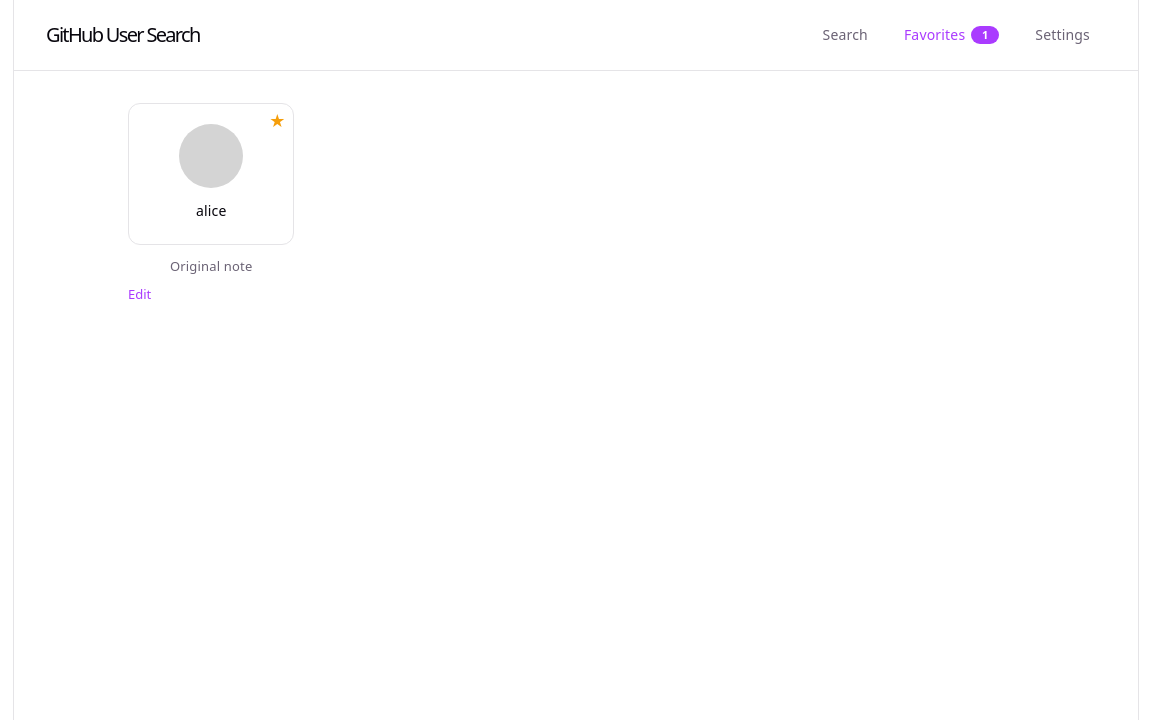
Test: favorites page notes › cancels a note edit and returns to summary view
Click the button with aria-label "Edit note for alice".
click(140, 294)  # box [128,281,151,308]
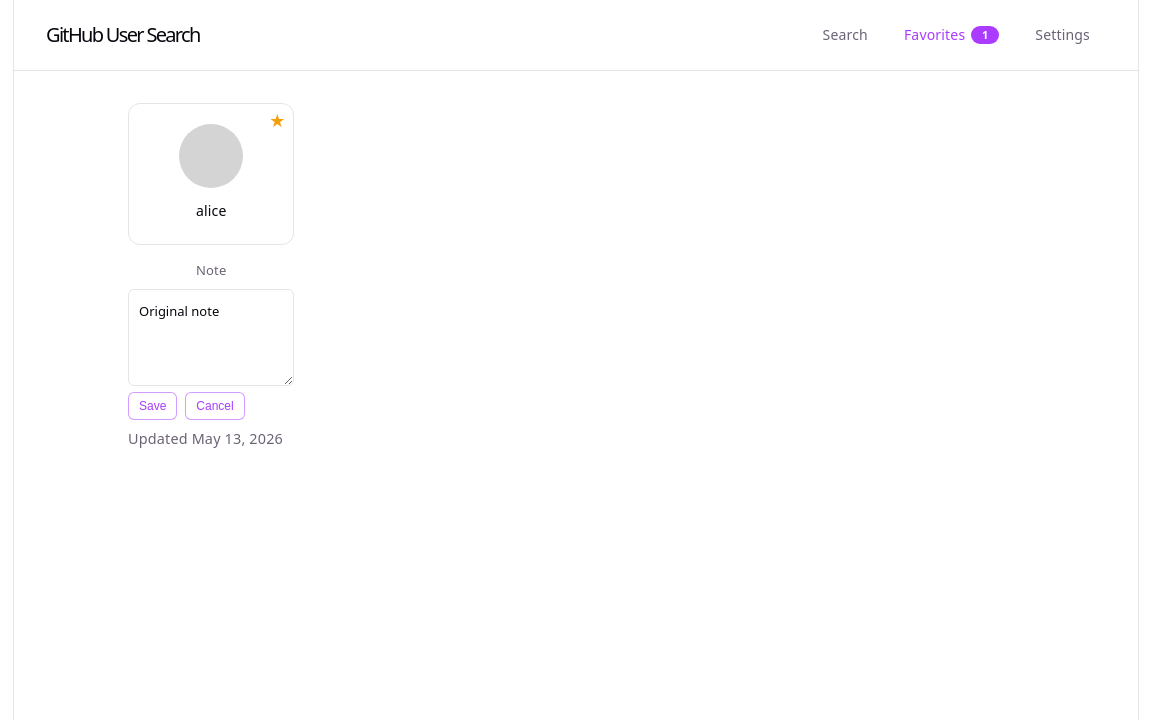
Replace the text in the text box named "Note for alice" with "Draft note" at coordinates (211, 337), box [128,289,294,386]
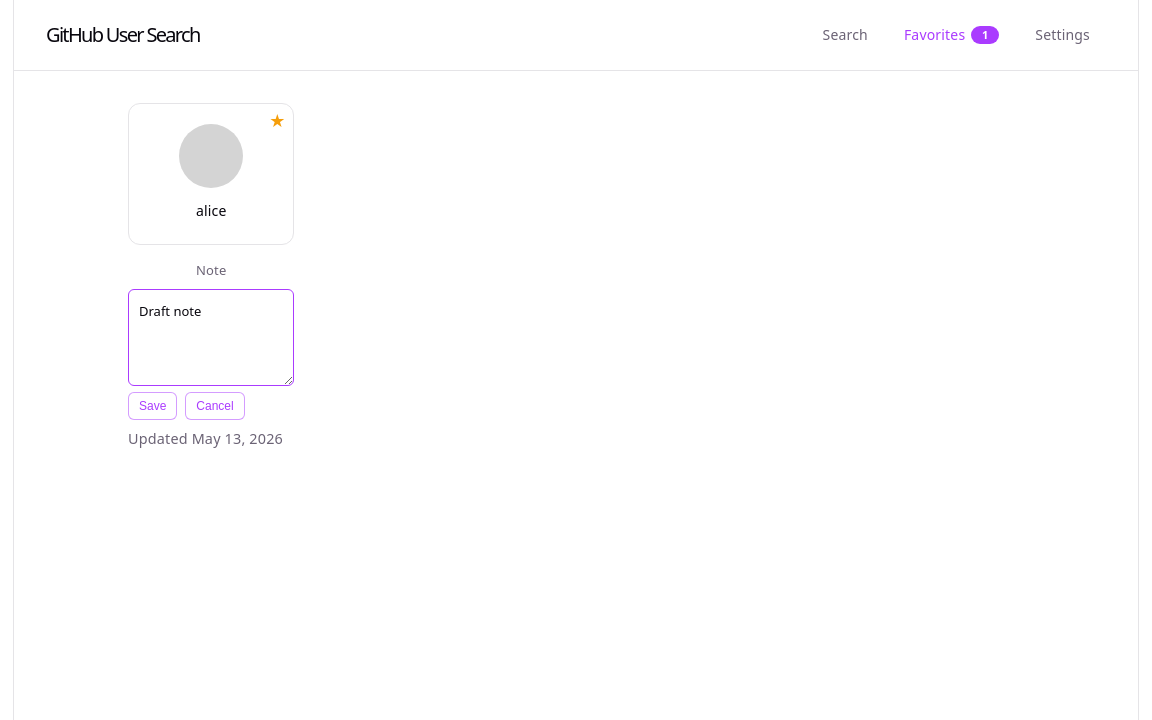
Click the button with aria-label "Cancel note edit for alice".
click(215, 406)  # box [185,392,245,420]
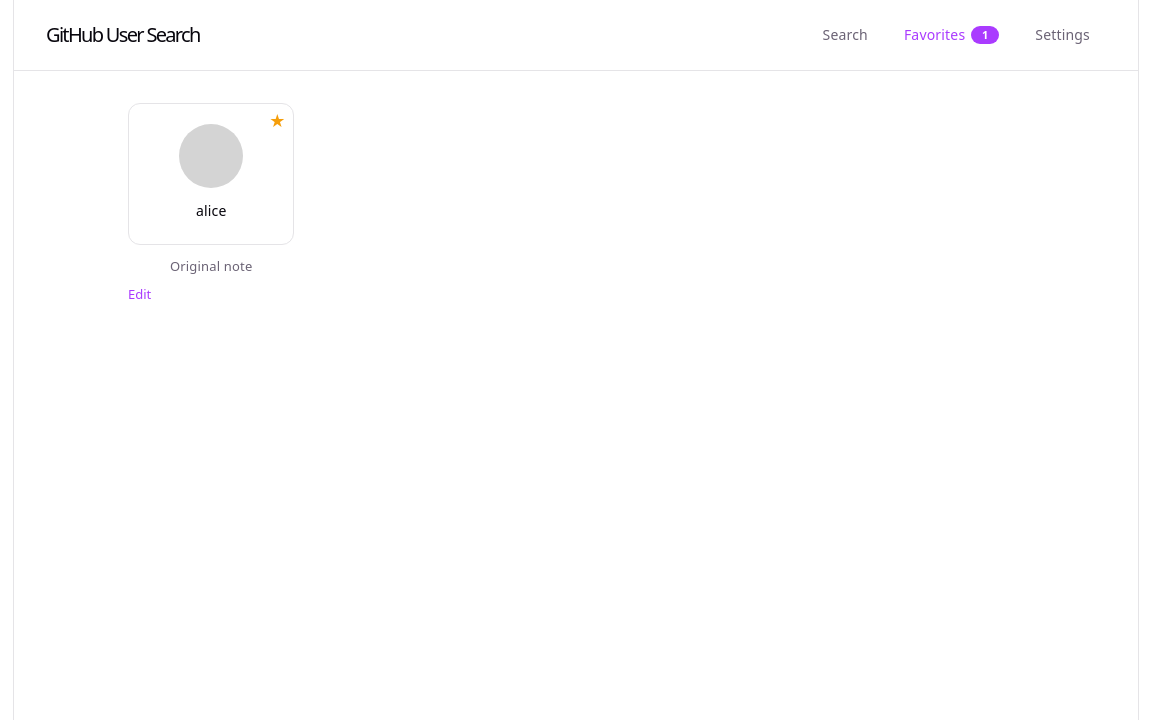
Expected: the text "Original note" is shown, [170,257,252,275]
